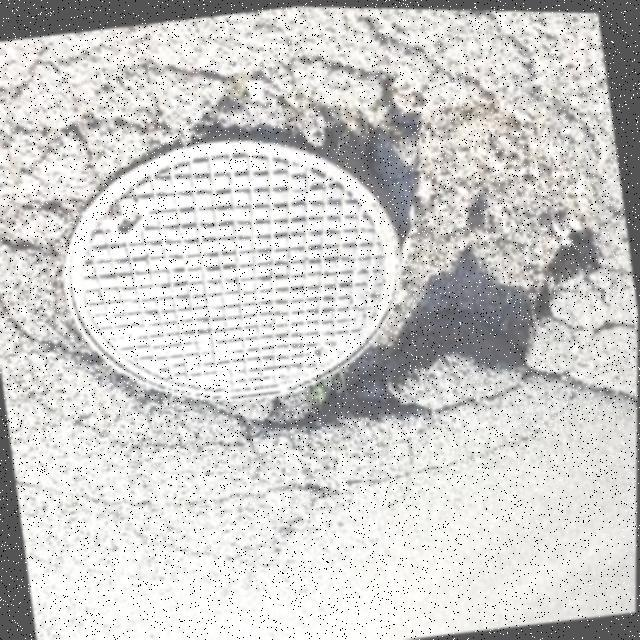pothole: (242, 76, 626, 448)
